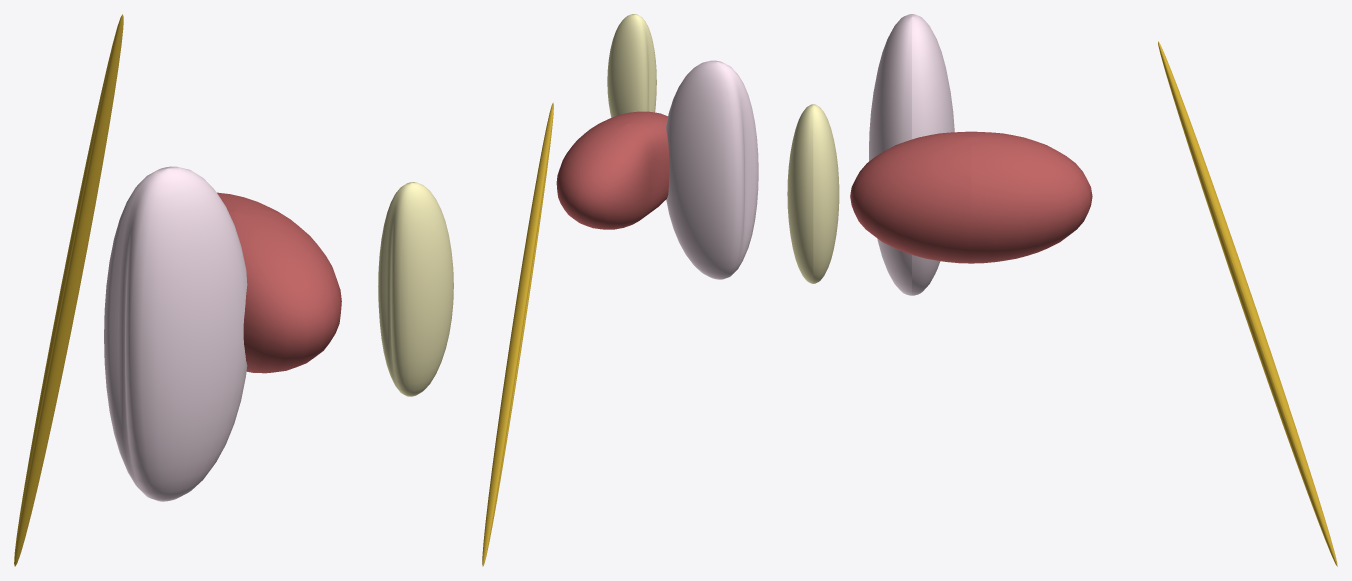
Rendered from urogenital.glb.
3 views of the same model, side by side, from view 1: azimuth 30°, elevation 25°; view 2: azimuth 150°, elevation 25°; view 3: azimuth 270°, elevation 25° (orthographic). The views are drawn at different scales.
Visible parts, largest first — view 1: Mesh_Avian_OvariumSinistrum, Mesh_Avian_Ren, Mesh_Avian_Testis, Mesh_Avian_Ureter; view 2: Mesh_Avian_OvariumSinistrum, Mesh_Avian_Ren, Mesh_Avian_Ureter, Mesh_Avian_Testis; view 3: Mesh_Avian_Ren, Mesh_Avian_OvariumSinistrum, Mesh_Avian_Testis, Mesh_Avian_Ureter.
Boxes of the visible parts, x1,y1,x2,y2 form: Mesh_Avian_OvariumSinistrum: (104, 166, 247, 501); Mesh_Avian_Ren: (217, 192, 341, 373); Mesh_Avian_Testis: (378, 182, 453, 396); Mesh_Avian_Ureter: (14, 14, 123, 566); Mesh_Avian_OvariumSinistrum: (666, 60, 758, 279); Mesh_Avian_Ren: (556, 111, 669, 229); Mesh_Avian_Ureter: (482, 102, 553, 566); Mesh_Avian_Testis: (607, 14, 656, 117); Mesh_Avian_Ren: (850, 131, 1092, 263); Mesh_Avian_OvariumSinistrum: (869, 14, 954, 295); Mesh_Avian_Testis: (787, 104, 839, 283); Mesh_Avian_Ureter: (1158, 41, 1337, 566).
Bounding box in the file's own units: 0.1338 × 0.2942 × 0.2787.
